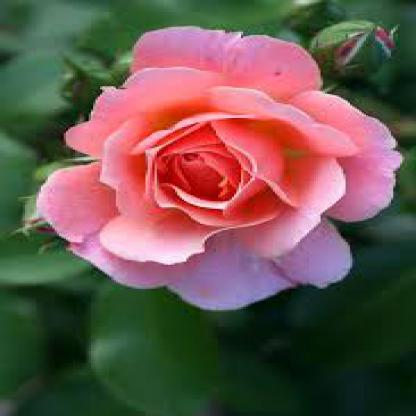Rose-Mawar: (31, 19, 404, 319)
